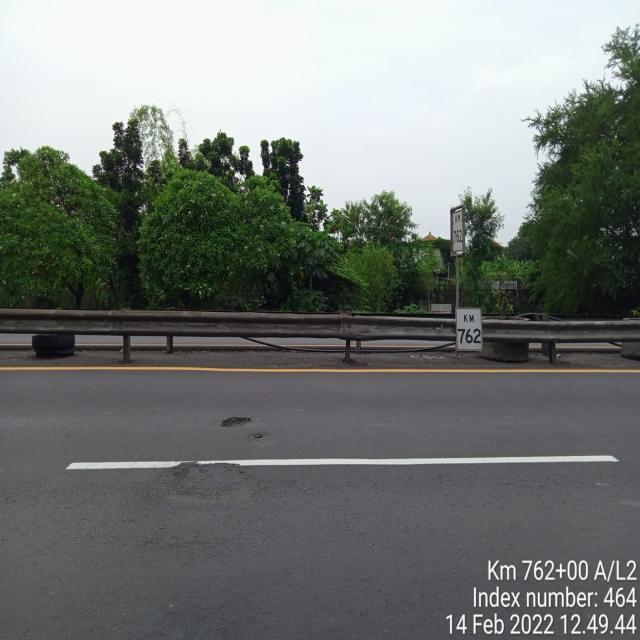Buraco: (216, 414, 256, 430), (245, 432, 271, 443)
